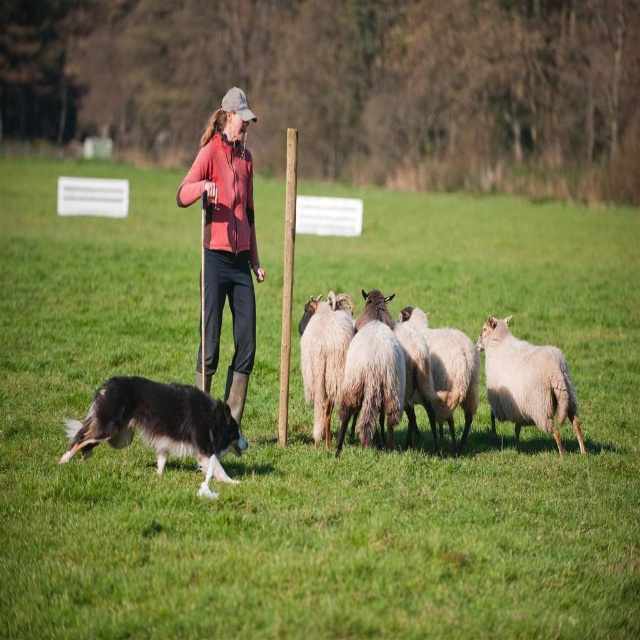Sheep: (299, 288, 587, 458)
